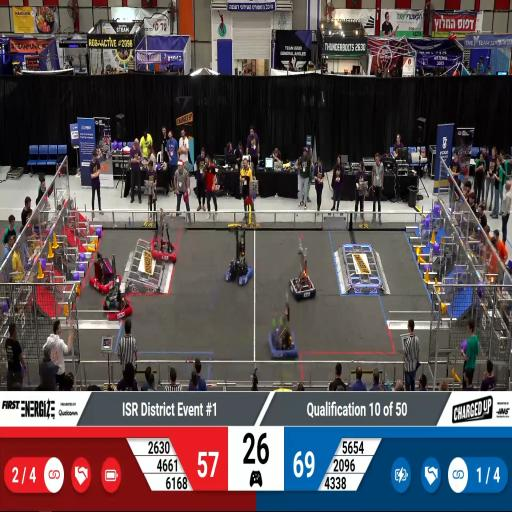robot: (222, 238, 254, 287), (268, 315, 300, 363), (90, 250, 120, 294), (289, 255, 316, 300), (102, 285, 132, 325), (150, 228, 178, 266)
